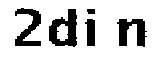2: (12, 6, 45, 50)
d: (48, 6, 79, 48)
i: (84, 5, 102, 50)
n: (113, 13, 154, 52)
